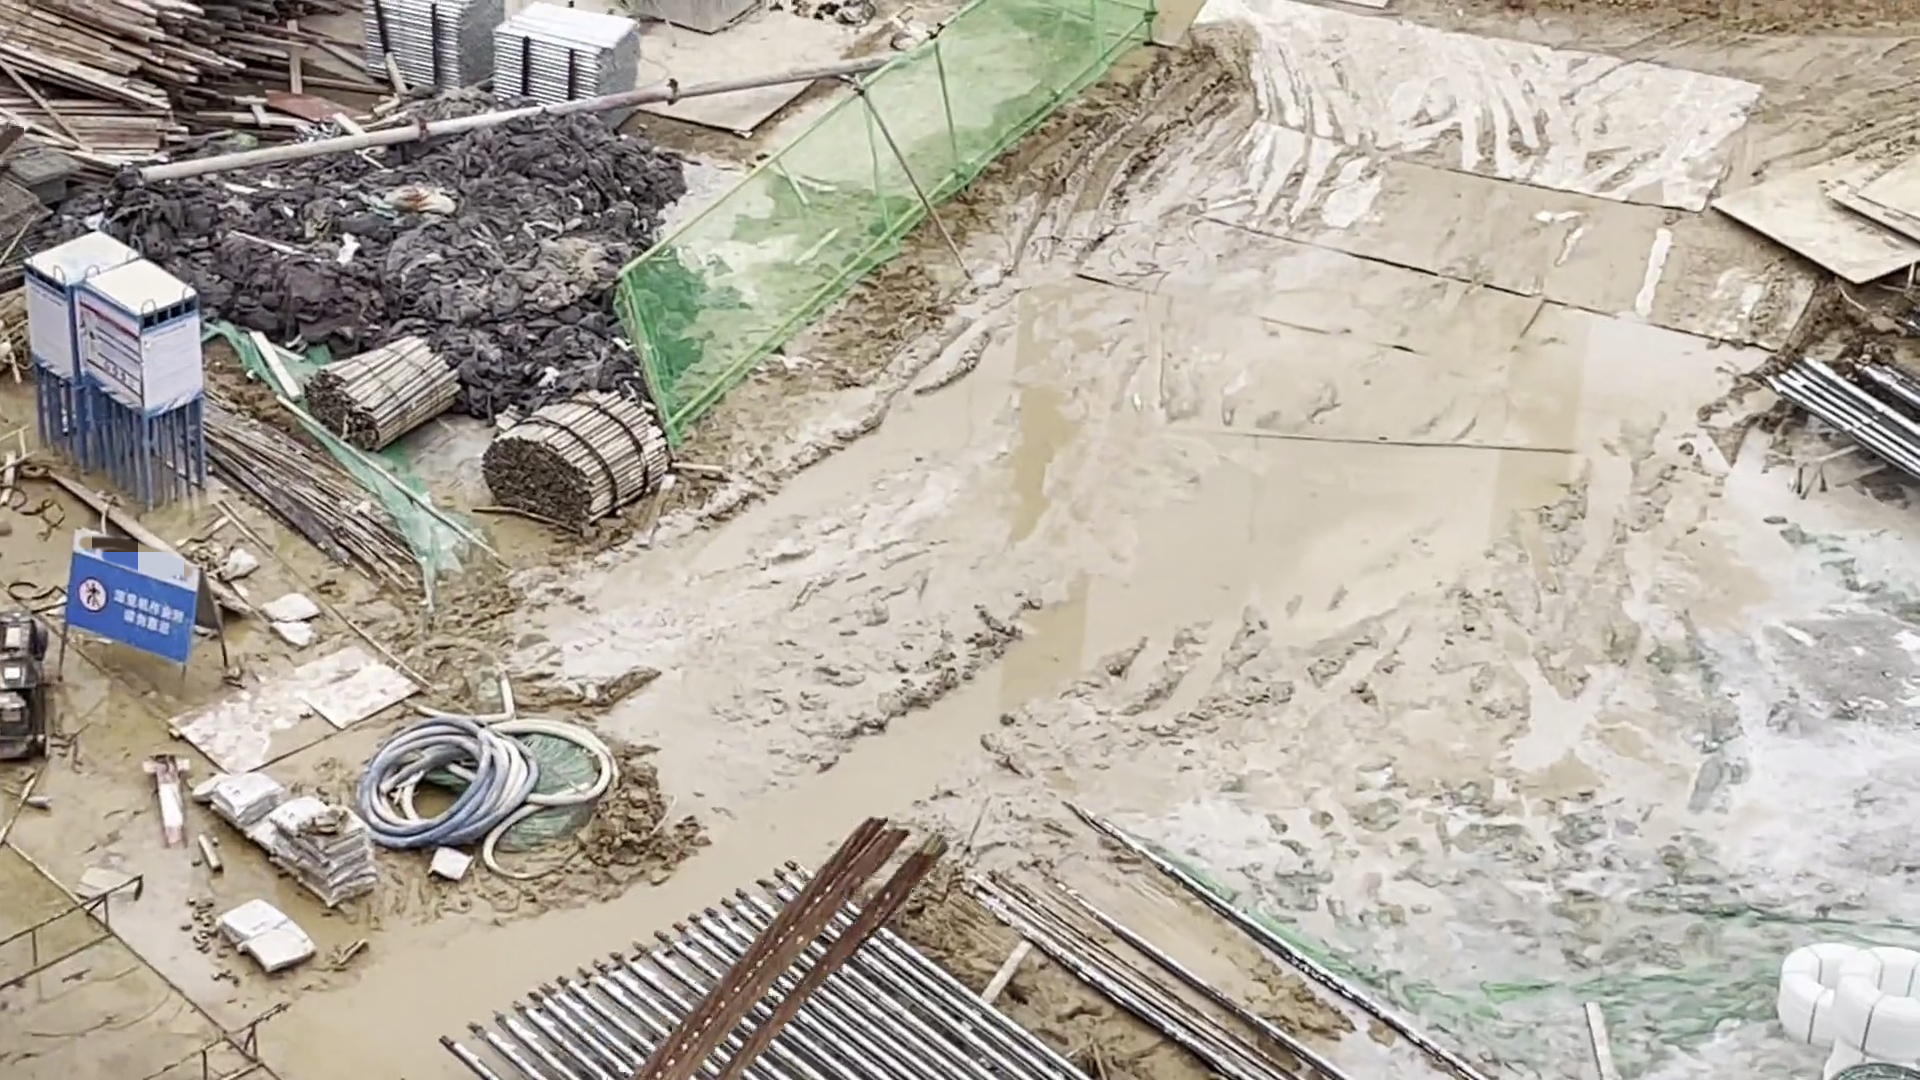scaffold: (488, 4, 641, 131), (360, 1, 501, 94)
slogan: (71, 560, 189, 651)
wood: (477, 382, 663, 527), (301, 330, 459, 452)
